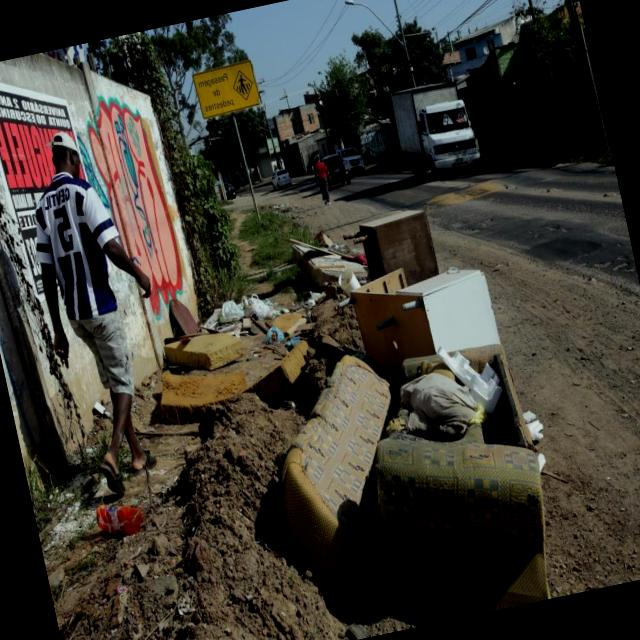garbage: (128, 180, 574, 629)
